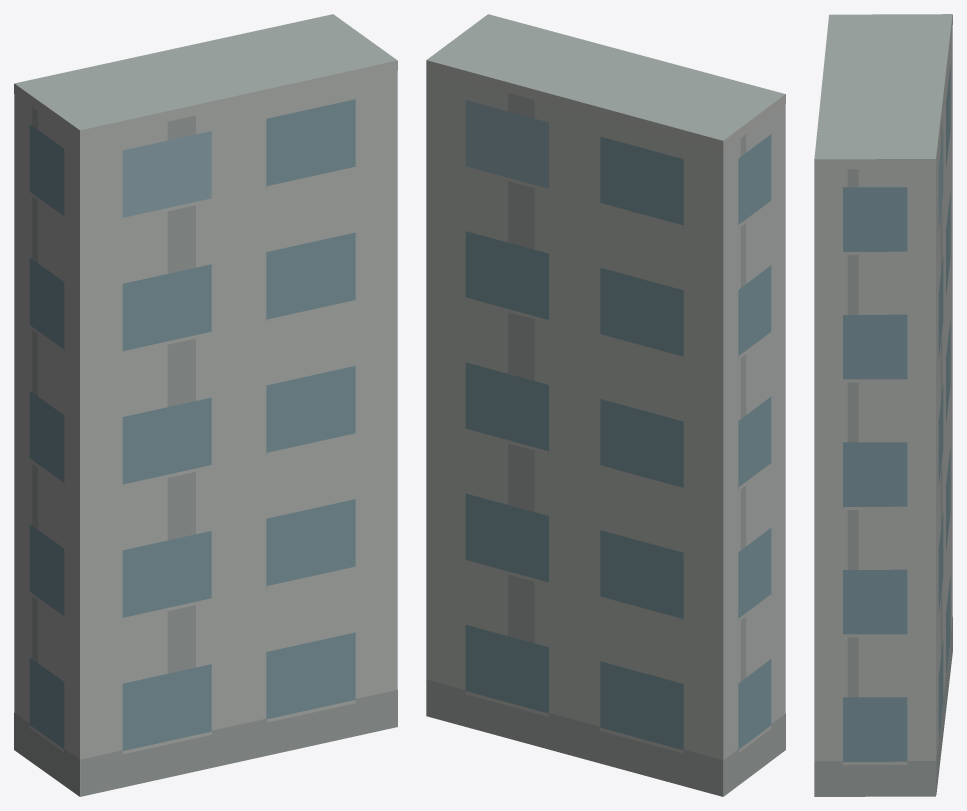
Rendered from survey-upis-33032836.glb.
The picture shows the model from 3 angles, left to right: view 1: azimuth 30°, elevation 25°; view 2: azimuth 150°, elevation 25°; view 3: azimuth 270°, elevation 25°; orthographic projection. The views are drawn at different scales.
Visible parts, largest first — view 1: survey-upis-33032836.tmp; view 2: survey-upis-33032836.tmp; view 3: survey-upis-33032836.tmp.
Boxes of the visible parts, x1,y1,x2,y2 form: survey-upis-33032836.tmp: (14,14,397,796); survey-upis-33032836.tmp: (426,14,785,796); survey-upis-33032836.tmp: (814,14,952,796).
Size of the model in its own units: 7.47 by 15.25 by 3.01.
